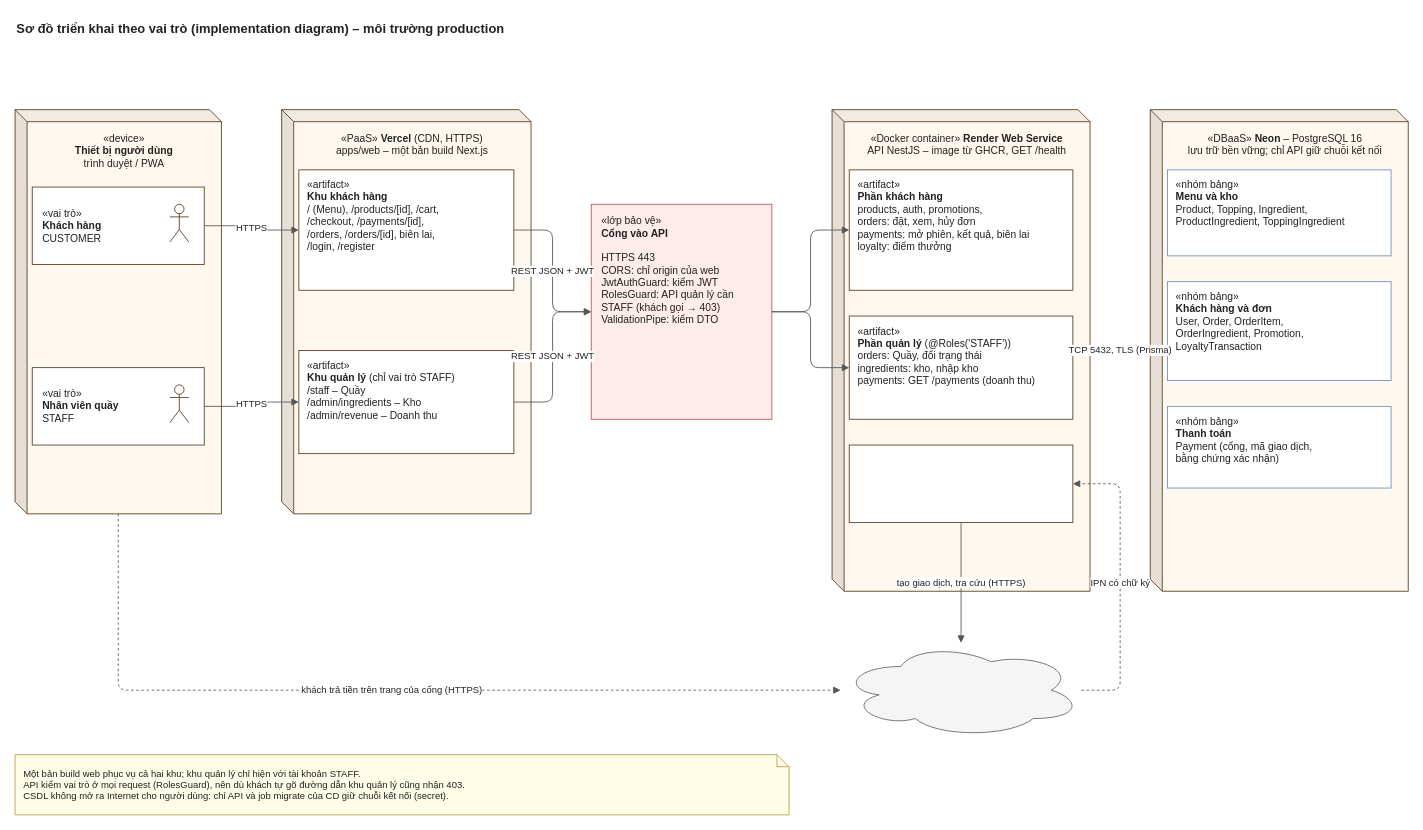
The diagram is 1423 pixels wide and 830 high, and some of its shapes have lost their labels. The shapes that lost their labels are listed below. From the top down, each one's centre as x and y in pixels, then its label:
point 960,483: «artifact» payments/gateways MoMo (HMAC-SHA256) VNPay (HMAC-SHA512)
point 960,689: Cổng MoMo, VNPay bên thứ ba, sandbox
